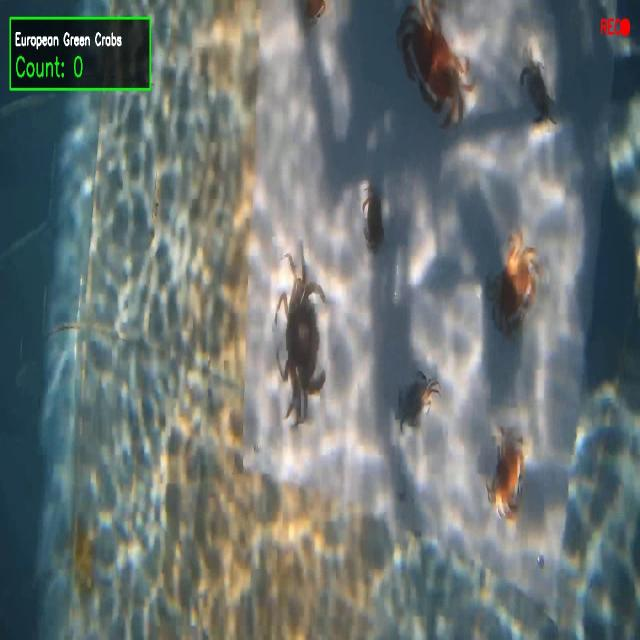European_Green_Crab: (264, 243, 330, 439), (512, 41, 568, 141), (383, 354, 442, 444)
